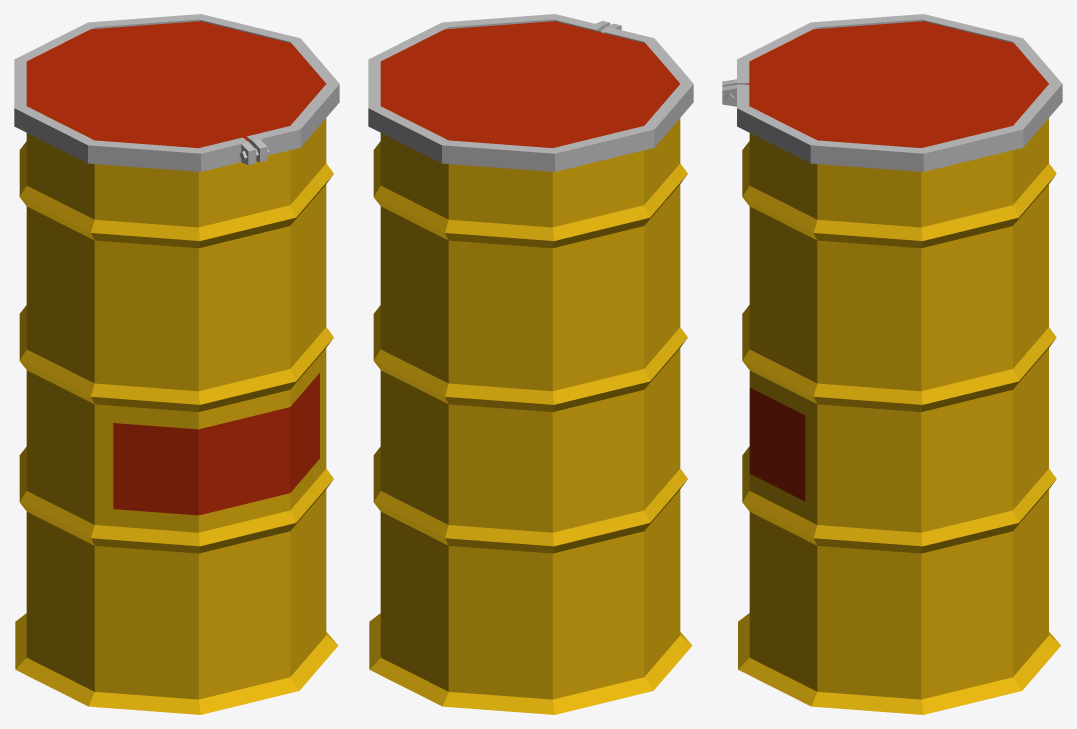
Rendered from active.Barrel-03.glb.
3 renders of one model, left to right at view 1: azimuth 30°, elevation 25°; view 2: azimuth 150°, elevation 25°; view 3: azimuth 270°, elevation 25°, orthographic.
Parts seen in each view (by area): view 1: active.Barrel 03; view 2: active.Barrel 03; view 3: active.Barrel 03.
Boxes of the visible parts, x1=… form: active.Barrel 03: x1=14, y1=14, x2=339, y2=714; active.Barrel 03: x1=368, y1=14, x2=693, y2=714; active.Barrel 03: x1=722, y1=14, x2=1062, y2=714.
Size of the model in its own units: 0.5112 by 0.9643 by 0.5257.
